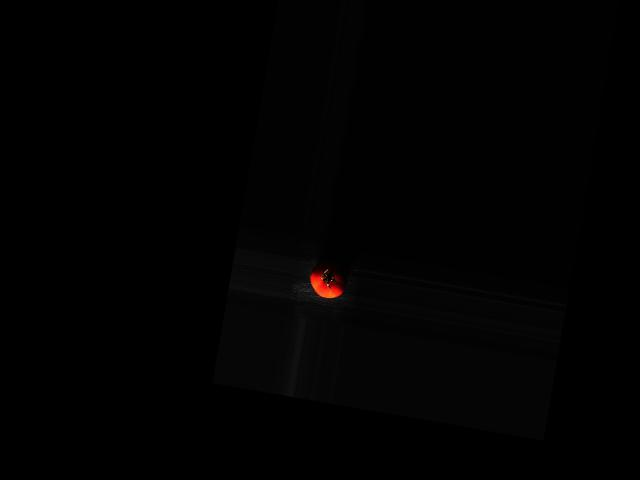tomato: (307, 257, 349, 300)
